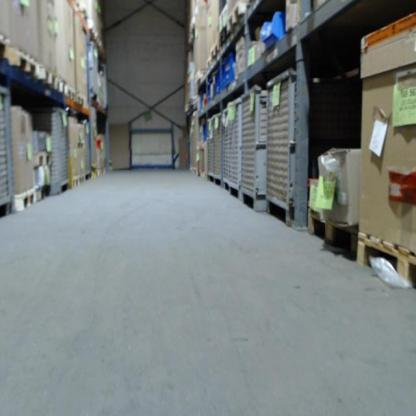pallet: (355, 233, 416, 291), (305, 210, 360, 260), (14, 47, 40, 80), (227, 2, 245, 35), (14, 188, 36, 212), (40, 66, 57, 89), (0, 34, 10, 61), (211, 42, 220, 64), (219, 27, 227, 48), (57, 78, 66, 95), (68, 88, 76, 102), (77, 95, 84, 107), (72, 177, 79, 187), (79, 175, 85, 184)
small_load_carrier: (223, 52, 239, 92), (206, 79, 215, 105), (215, 65, 221, 99)
stillage: (262, 64, 314, 231), (239, 83, 270, 219), (42, 103, 73, 195), (0, 81, 18, 219), (224, 100, 241, 200), (207, 111, 223, 188), (81, 119, 93, 179)
